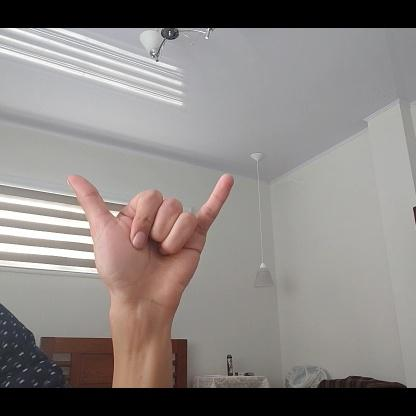Y: (66, 170, 237, 318)
